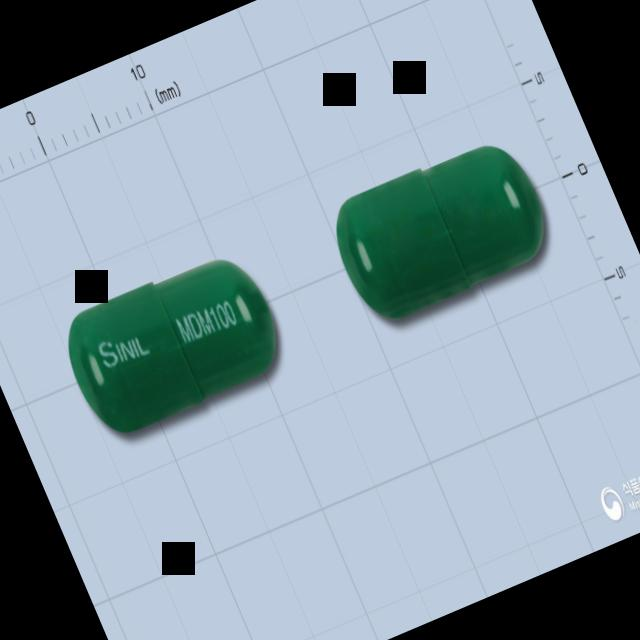Monodoxy-M Cap- Sinil: (52, 243, 296, 450)
